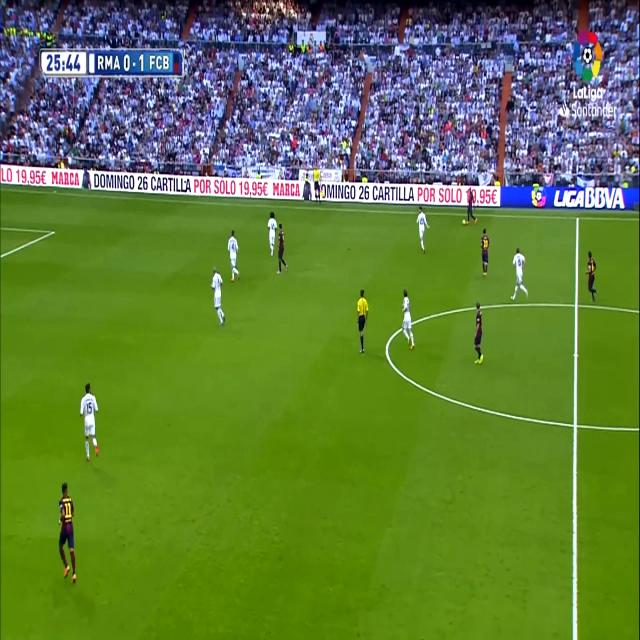bigarea_top_inner: (49, 224, 56, 238)
halfcircle_bottom: (568, 407, 582, 442)
halfcircle_top: (571, 291, 583, 318)
midline_top_intersection: (573, 210, 583, 227)
